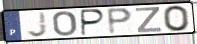J: (26, 11, 49, 38)
O: (162, 5, 192, 33), (51, 10, 78, 37)
P: (105, 7, 134, 36), (80, 8, 106, 37)
Z: (134, 6, 163, 34)
